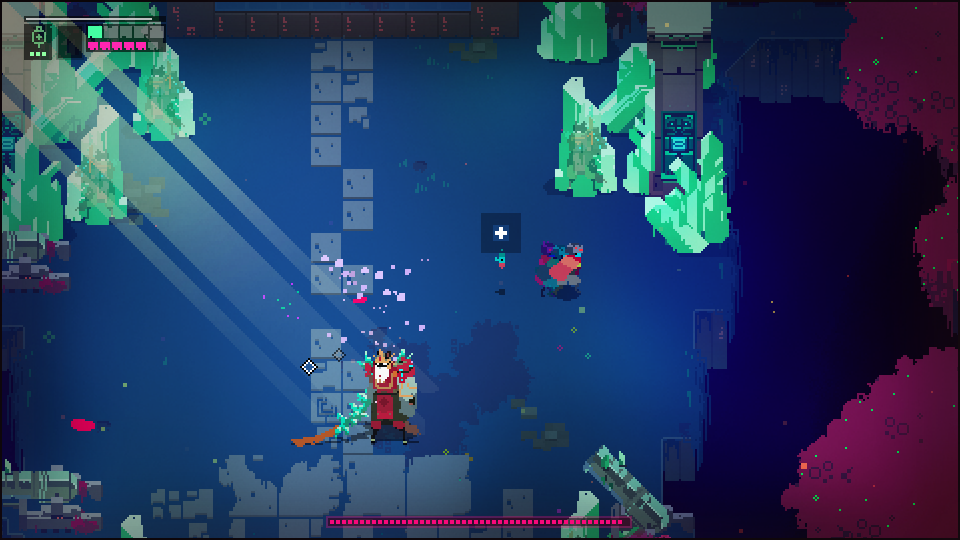hanged_man: (327, 341, 420, 448)
player: (544, 240, 583, 295)
